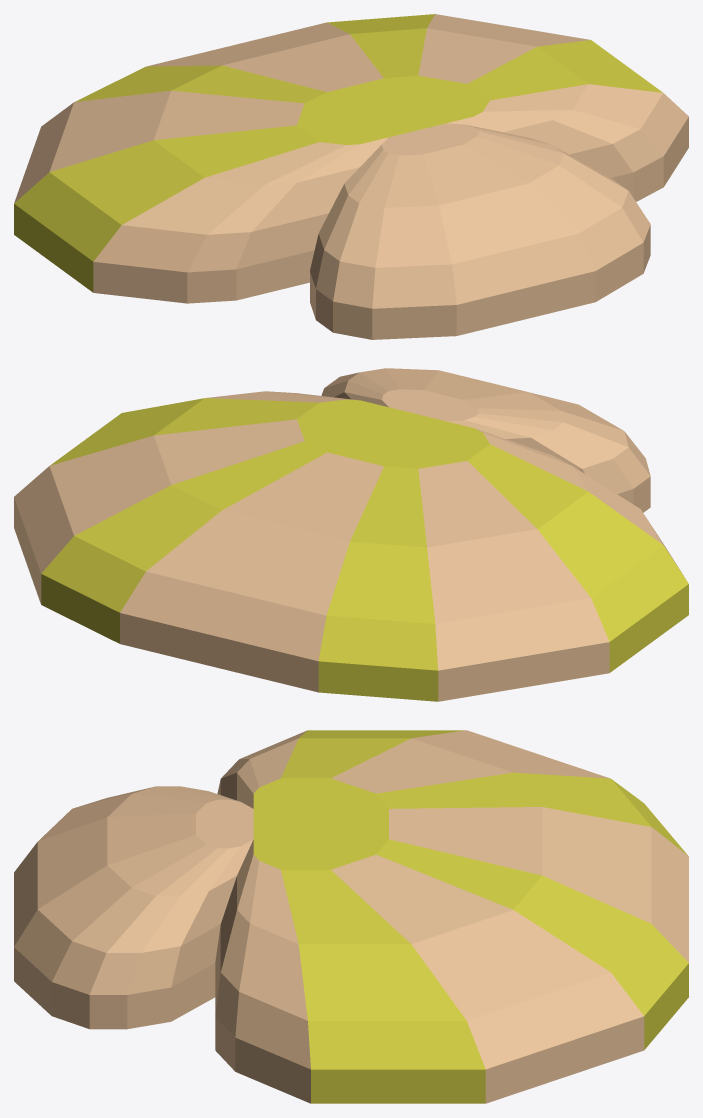
File: shelp.fbx
3 renders of one model, top to bottom at view 1: azimuth 30°, elevation 25°; view 2: azimuth 150°, elevation 25°; view 3: azimuth 270°, elevation 25°, orthographic. The views are drawn at different scales.
Visible parts, largest first — view 1: Cube; view 2: Cube; view 3: Cube.
Boxes of the visible parts, bbox=[...] form: Cube: bbox=[14, 14, 688, 339]; Cube: bbox=[14, 368, 688, 701]; Cube: bbox=[14, 730, 688, 1103].
Size of the model in its own units: 0.1002 by 0.0175 by 0.0894.
